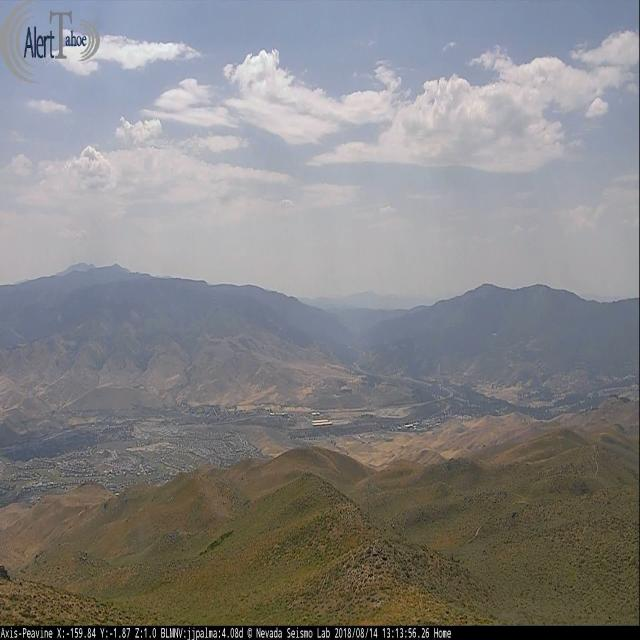smoke: (434, 359, 443, 382)
